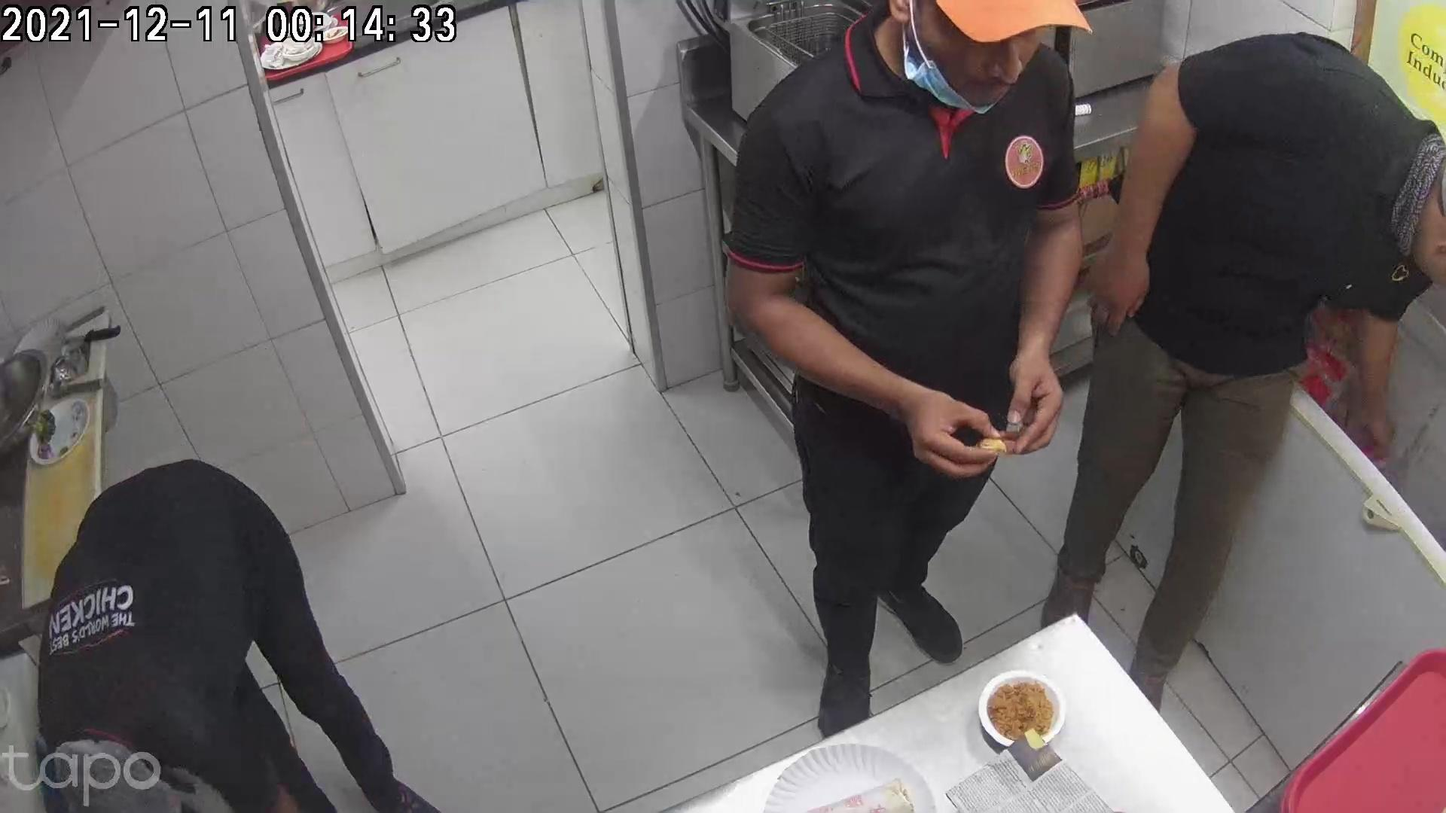no_gloves: (874, 378, 995, 479), (1007, 328, 1064, 449)
